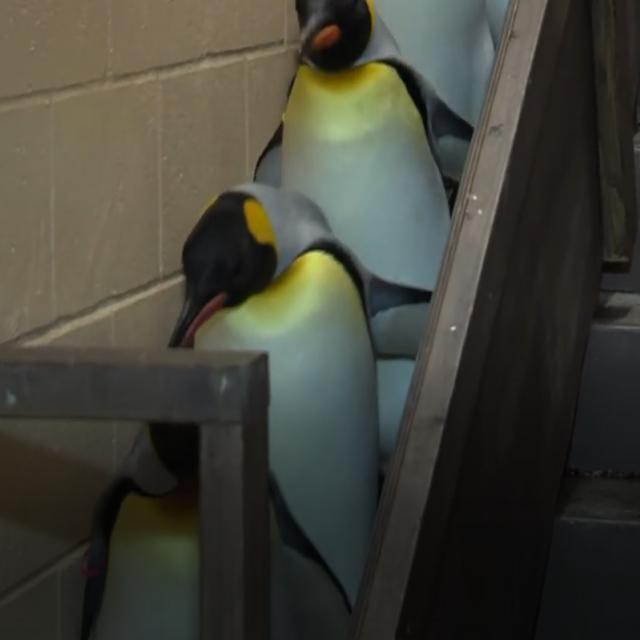Penguin: (176, 176, 400, 592), (270, 0, 466, 306), (89, 406, 300, 640)
